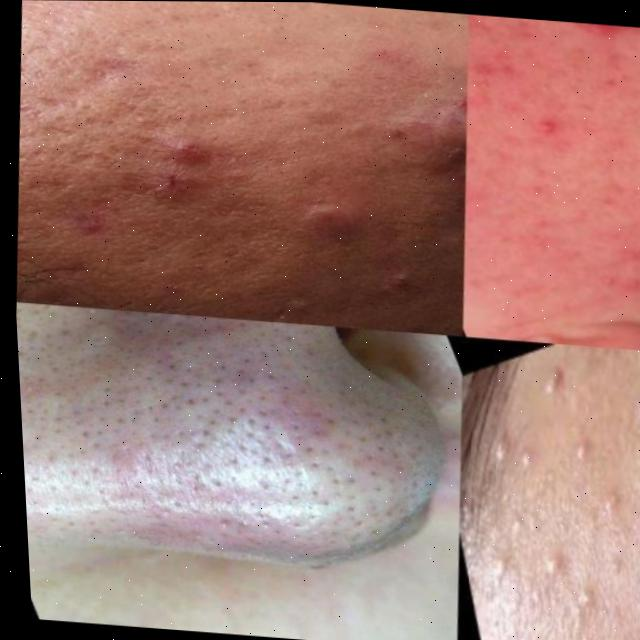Acne: (49, 29, 443, 271), (79, 334, 438, 549), (495, 393, 640, 640), (502, 88, 640, 282)
